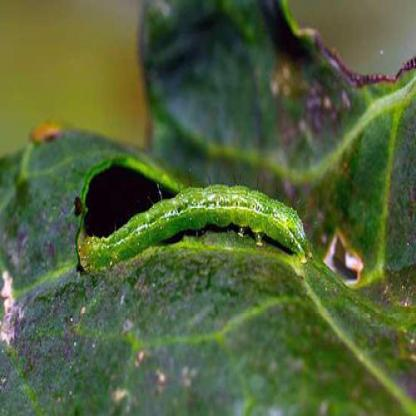armyworm: (73, 168, 300, 288)
